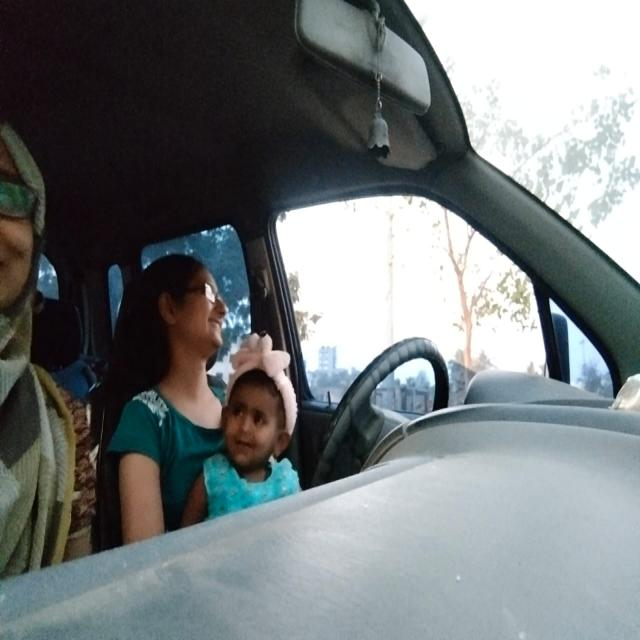child: (211, 366, 295, 474)
person: (0, 115, 54, 344), (138, 244, 234, 364)
